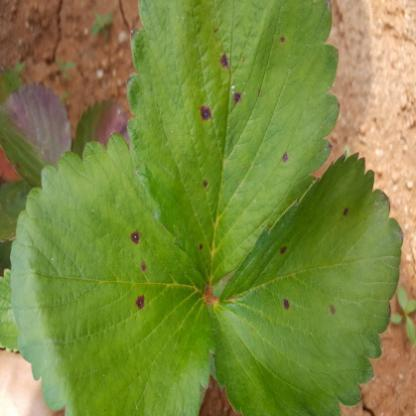Strawberry_Leaf_Spot: (125, 0, 341, 294), (8, 132, 214, 415), (212, 150, 403, 415)
